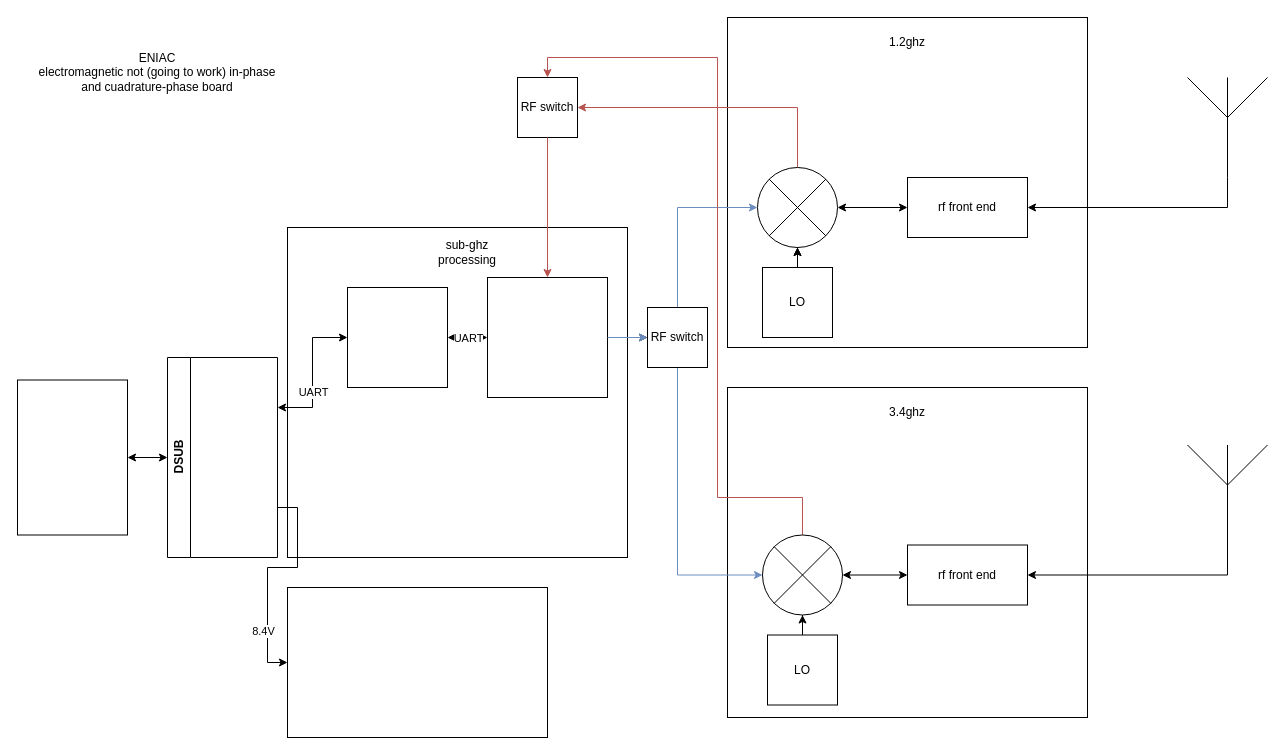
The diagram is 1285 pixels wide and 755 high, and some of its shapes have lost their labels. Here are the shapes that lost their labels. From the top down, the centre of each, then its label:
At pixel 397 337: "STM32 (generic)".
At pixel 547 337: "CC1201RHBT".
At pixel 72 457: "egse & laptop".
At pixel 417 662: "power/batteries".
